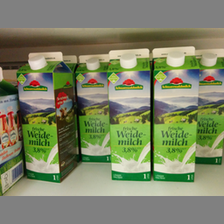milk: (16, 51, 79, 183), (151, 44, 198, 184), (106, 48, 154, 182), (75, 54, 109, 166), (196, 51, 224, 167)
